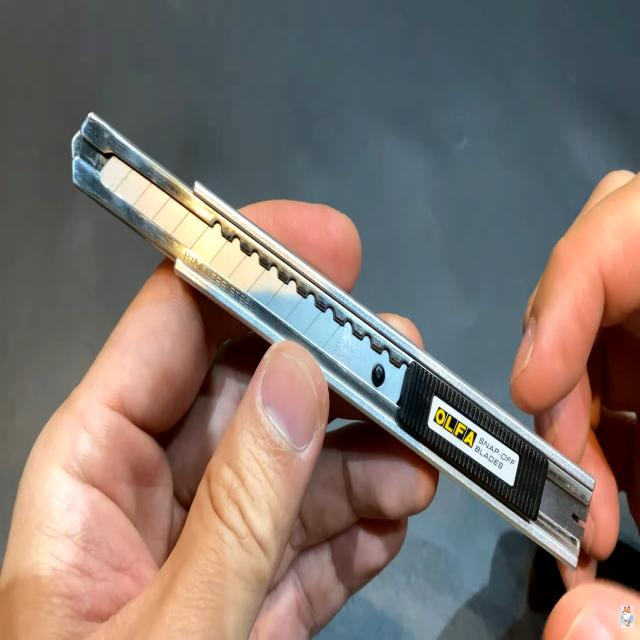cutter: (48, 52, 636, 602)
